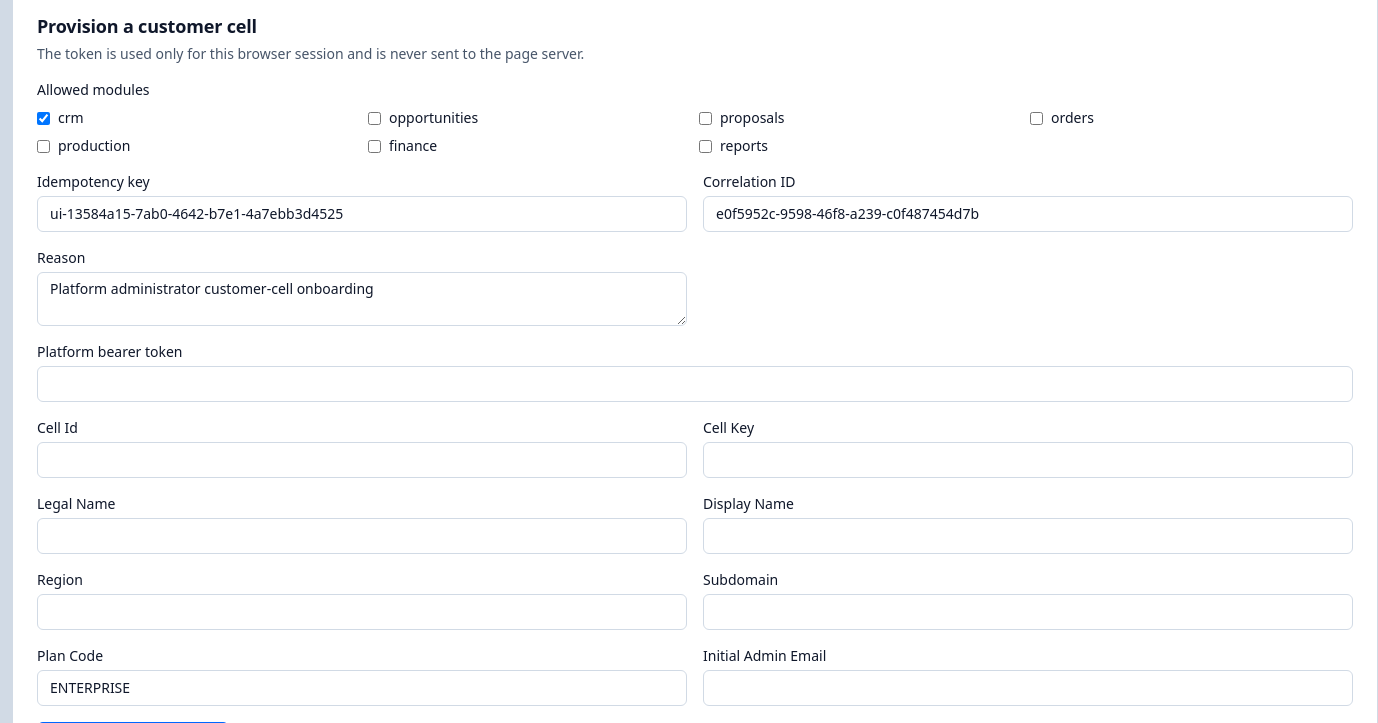
Test: CustomerCellOnboardingPanel › reuses idempotency and correlation values when the operator retries
The image size is (1378, 723).
Replace the text in the field labelled "Idempotency key" with "retry-idempotency". click: x=362, y=214
box: [37,196,687,232]
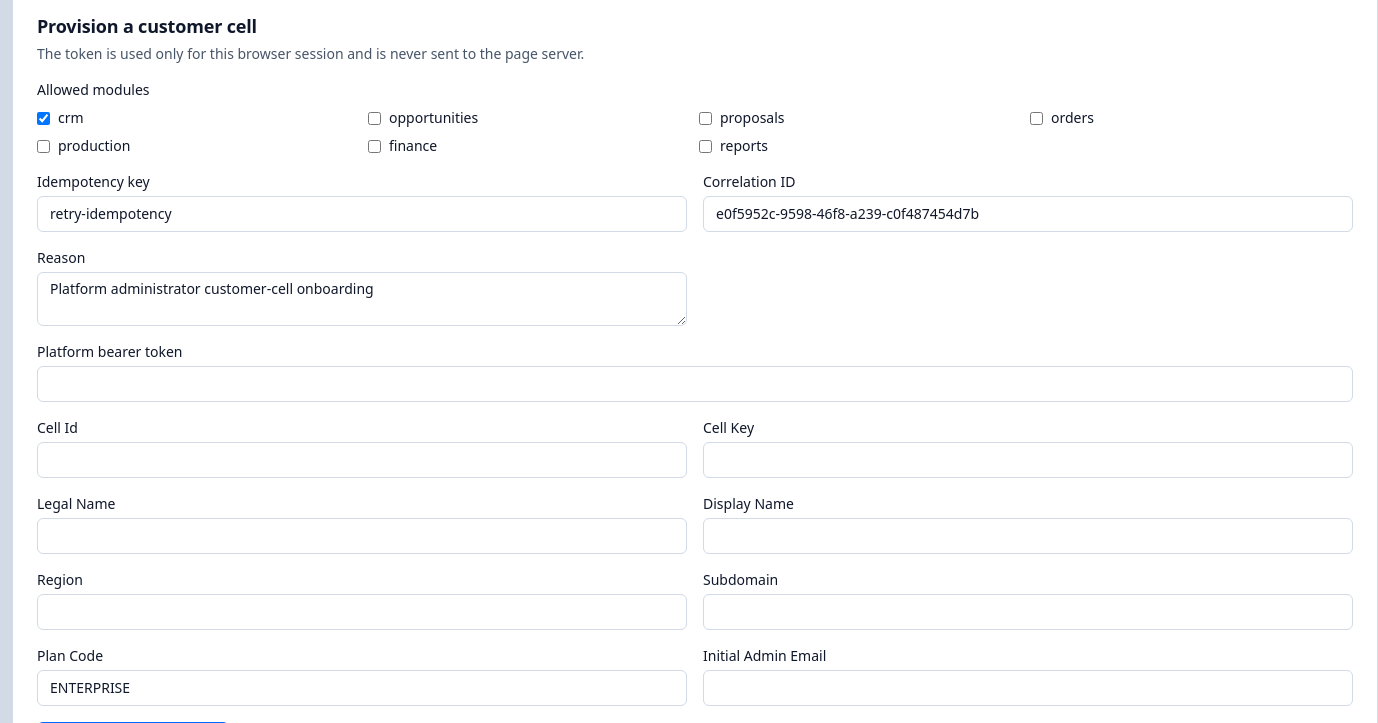
Replace the text in the field labelled "Correlation ID" with "retry-correlation". click: x=1028, y=214
box: [703,196,1353,232]
(page scrolled)
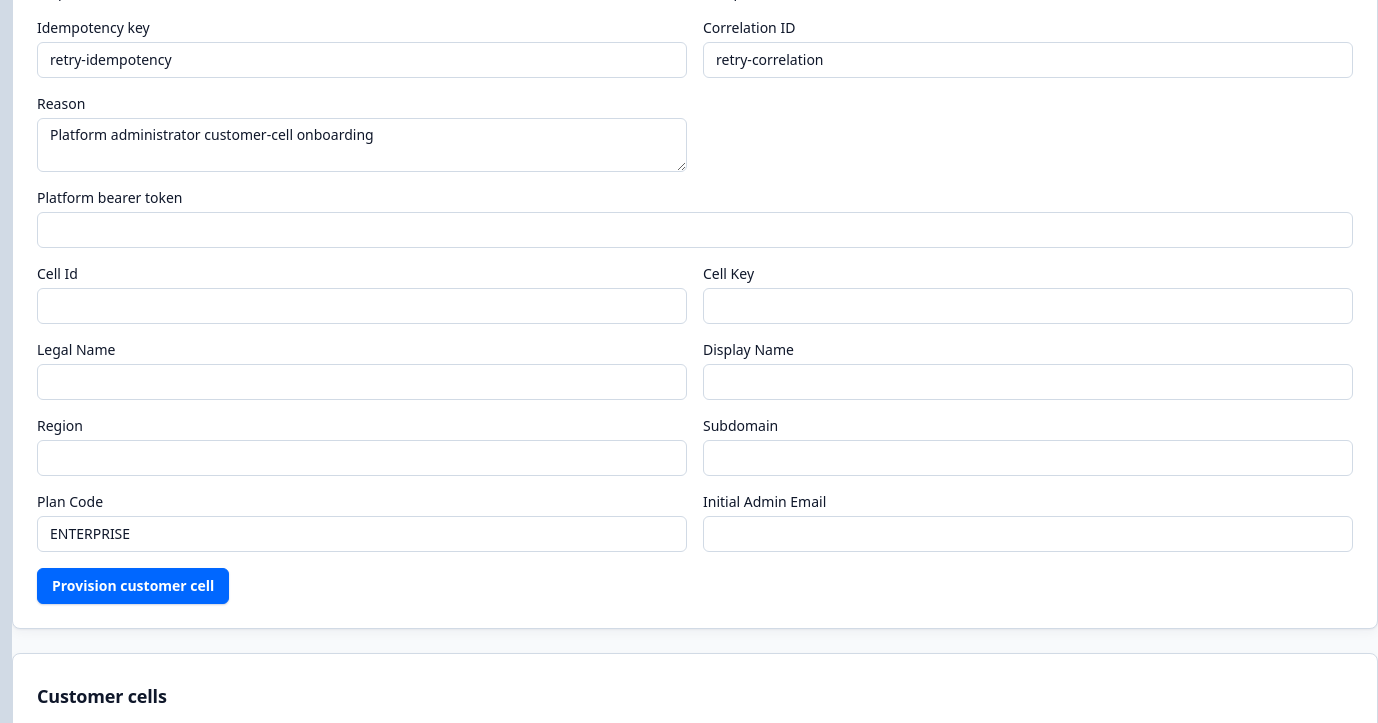
Click the button "Provision customer cell". click: x=133, y=586
box: [37,568,229,604]
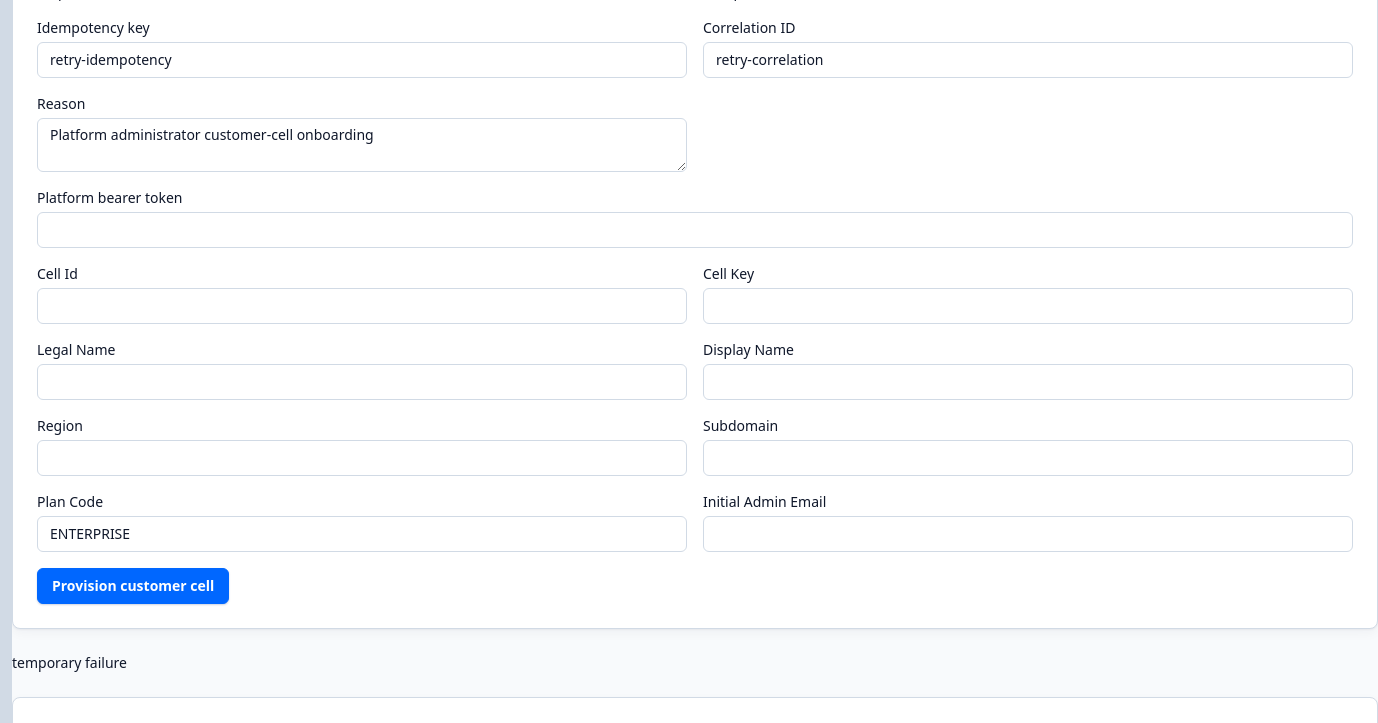
Expected: the text "temporary failure" is shown, [12,653,127,672]
Click the button "Provision customer cell". click: x=133, y=586
box: [37,568,229,604]
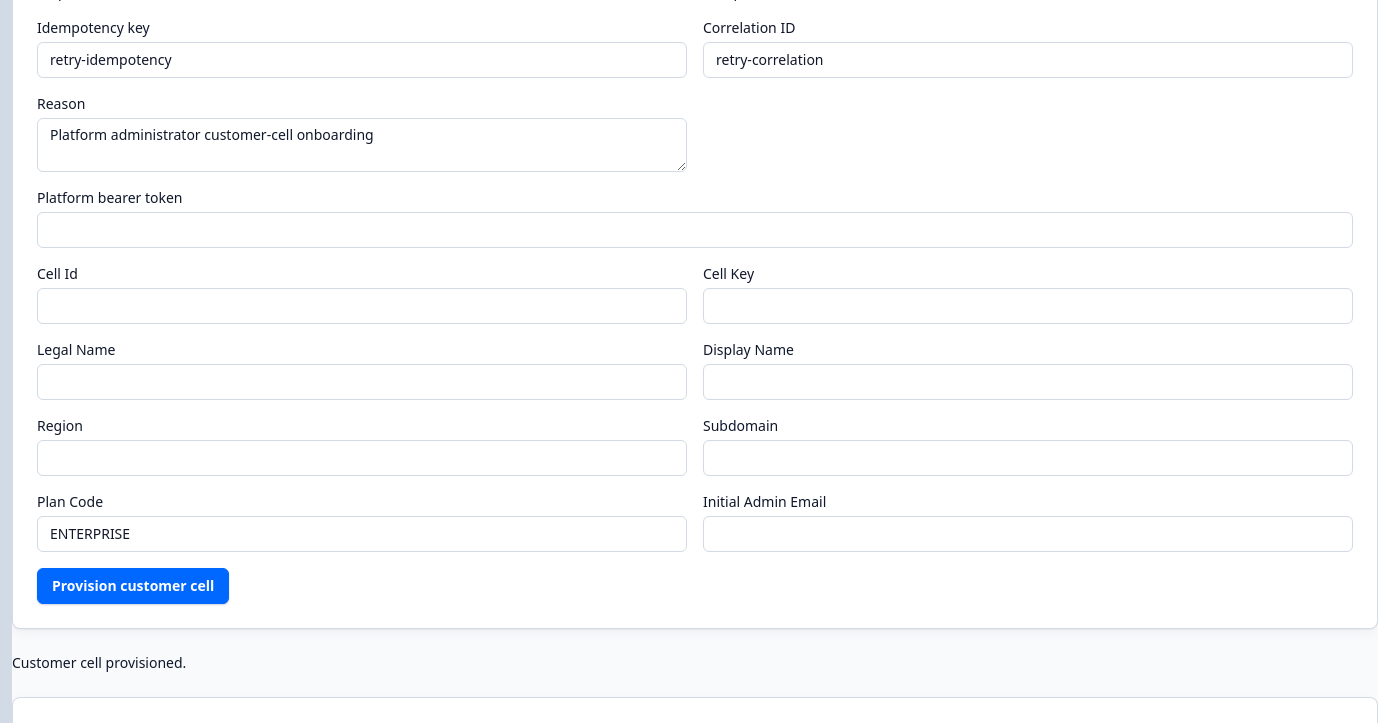
Expected: the text "Customer cell provisioned." is shown, [12,653,186,672]
